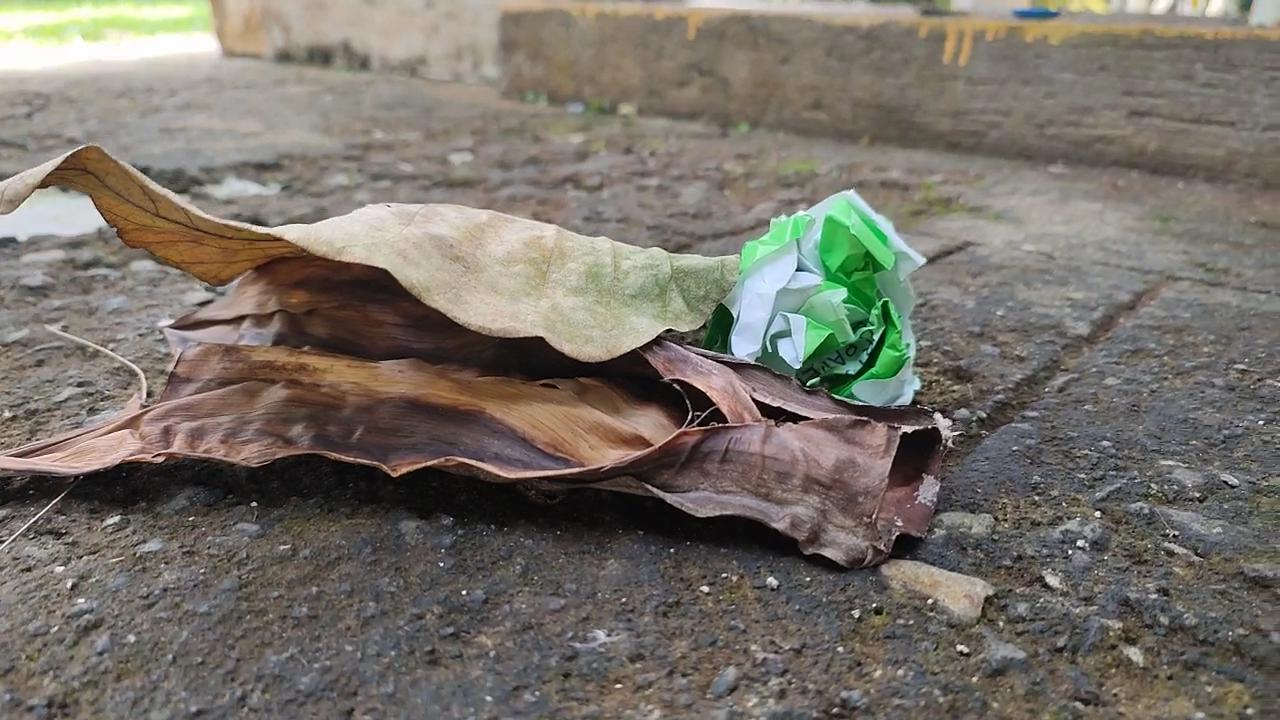Paper: (708, 165, 946, 426)
